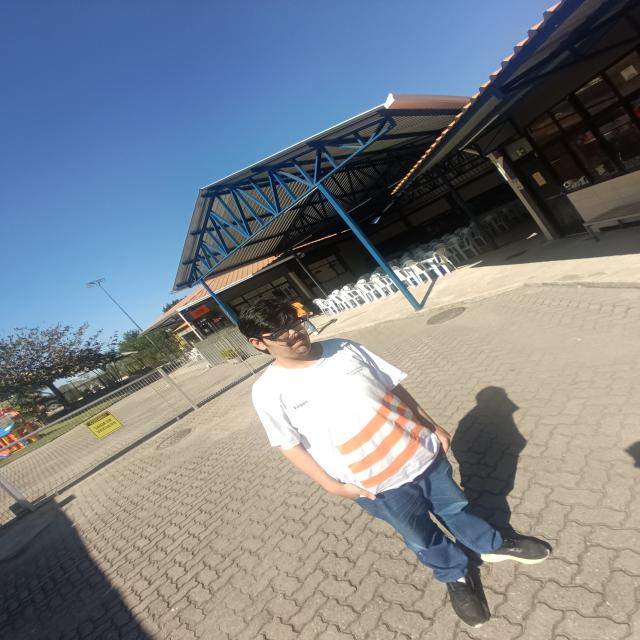oculos-epi: (255, 317, 309, 345)
